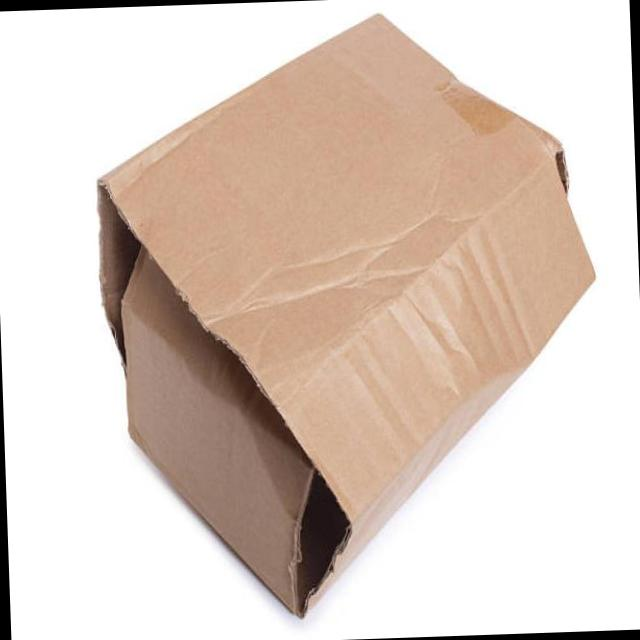box: (93, 9, 598, 621)
crushed: (208, 133, 589, 514)
tear: (97, 180, 314, 465), (292, 468, 356, 620)
